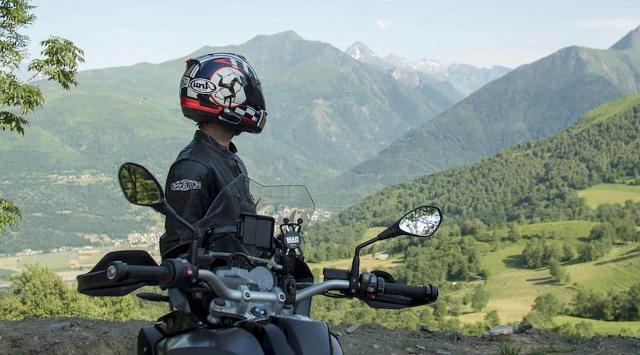helm: (178, 52, 269, 137)
motor: (77, 158, 443, 355)
